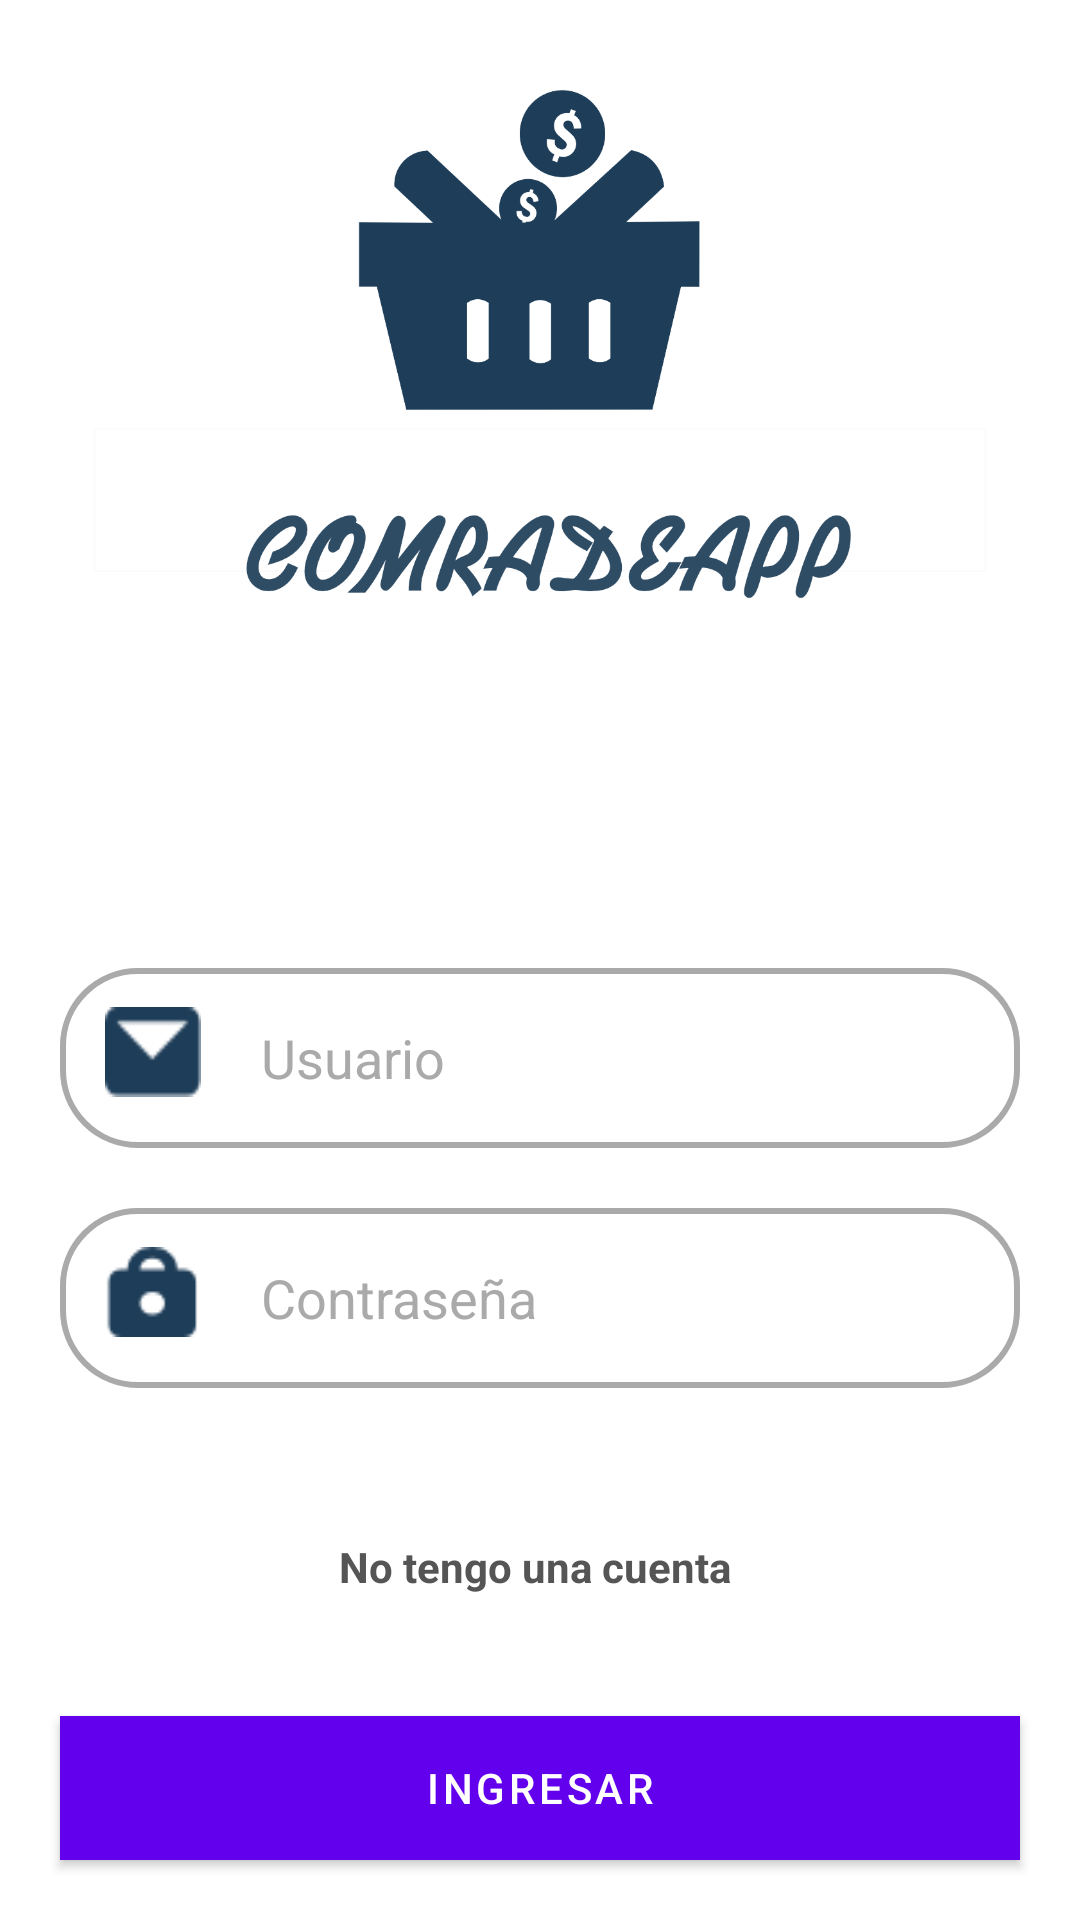

Named icons in this screenshot (1080 × 1920) and their bounding boxes, (x1, y1, x2, y2):
lock: (107, 1247, 197, 1337)
mail: (105, 1007, 201, 1097)
